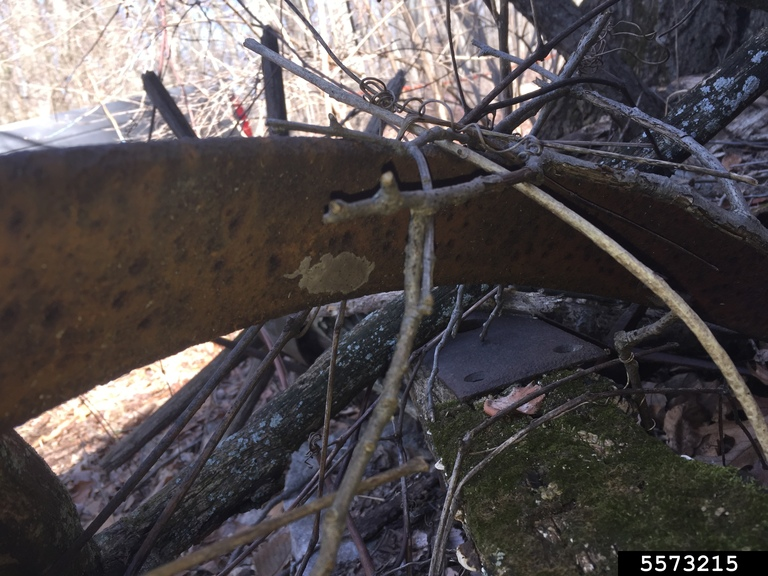egg masses: (287, 240, 380, 304)
